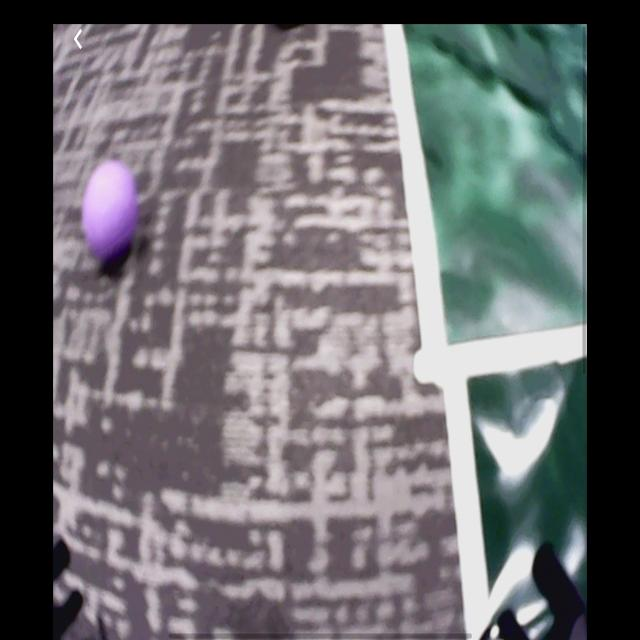ball: (81, 161, 140, 271)
